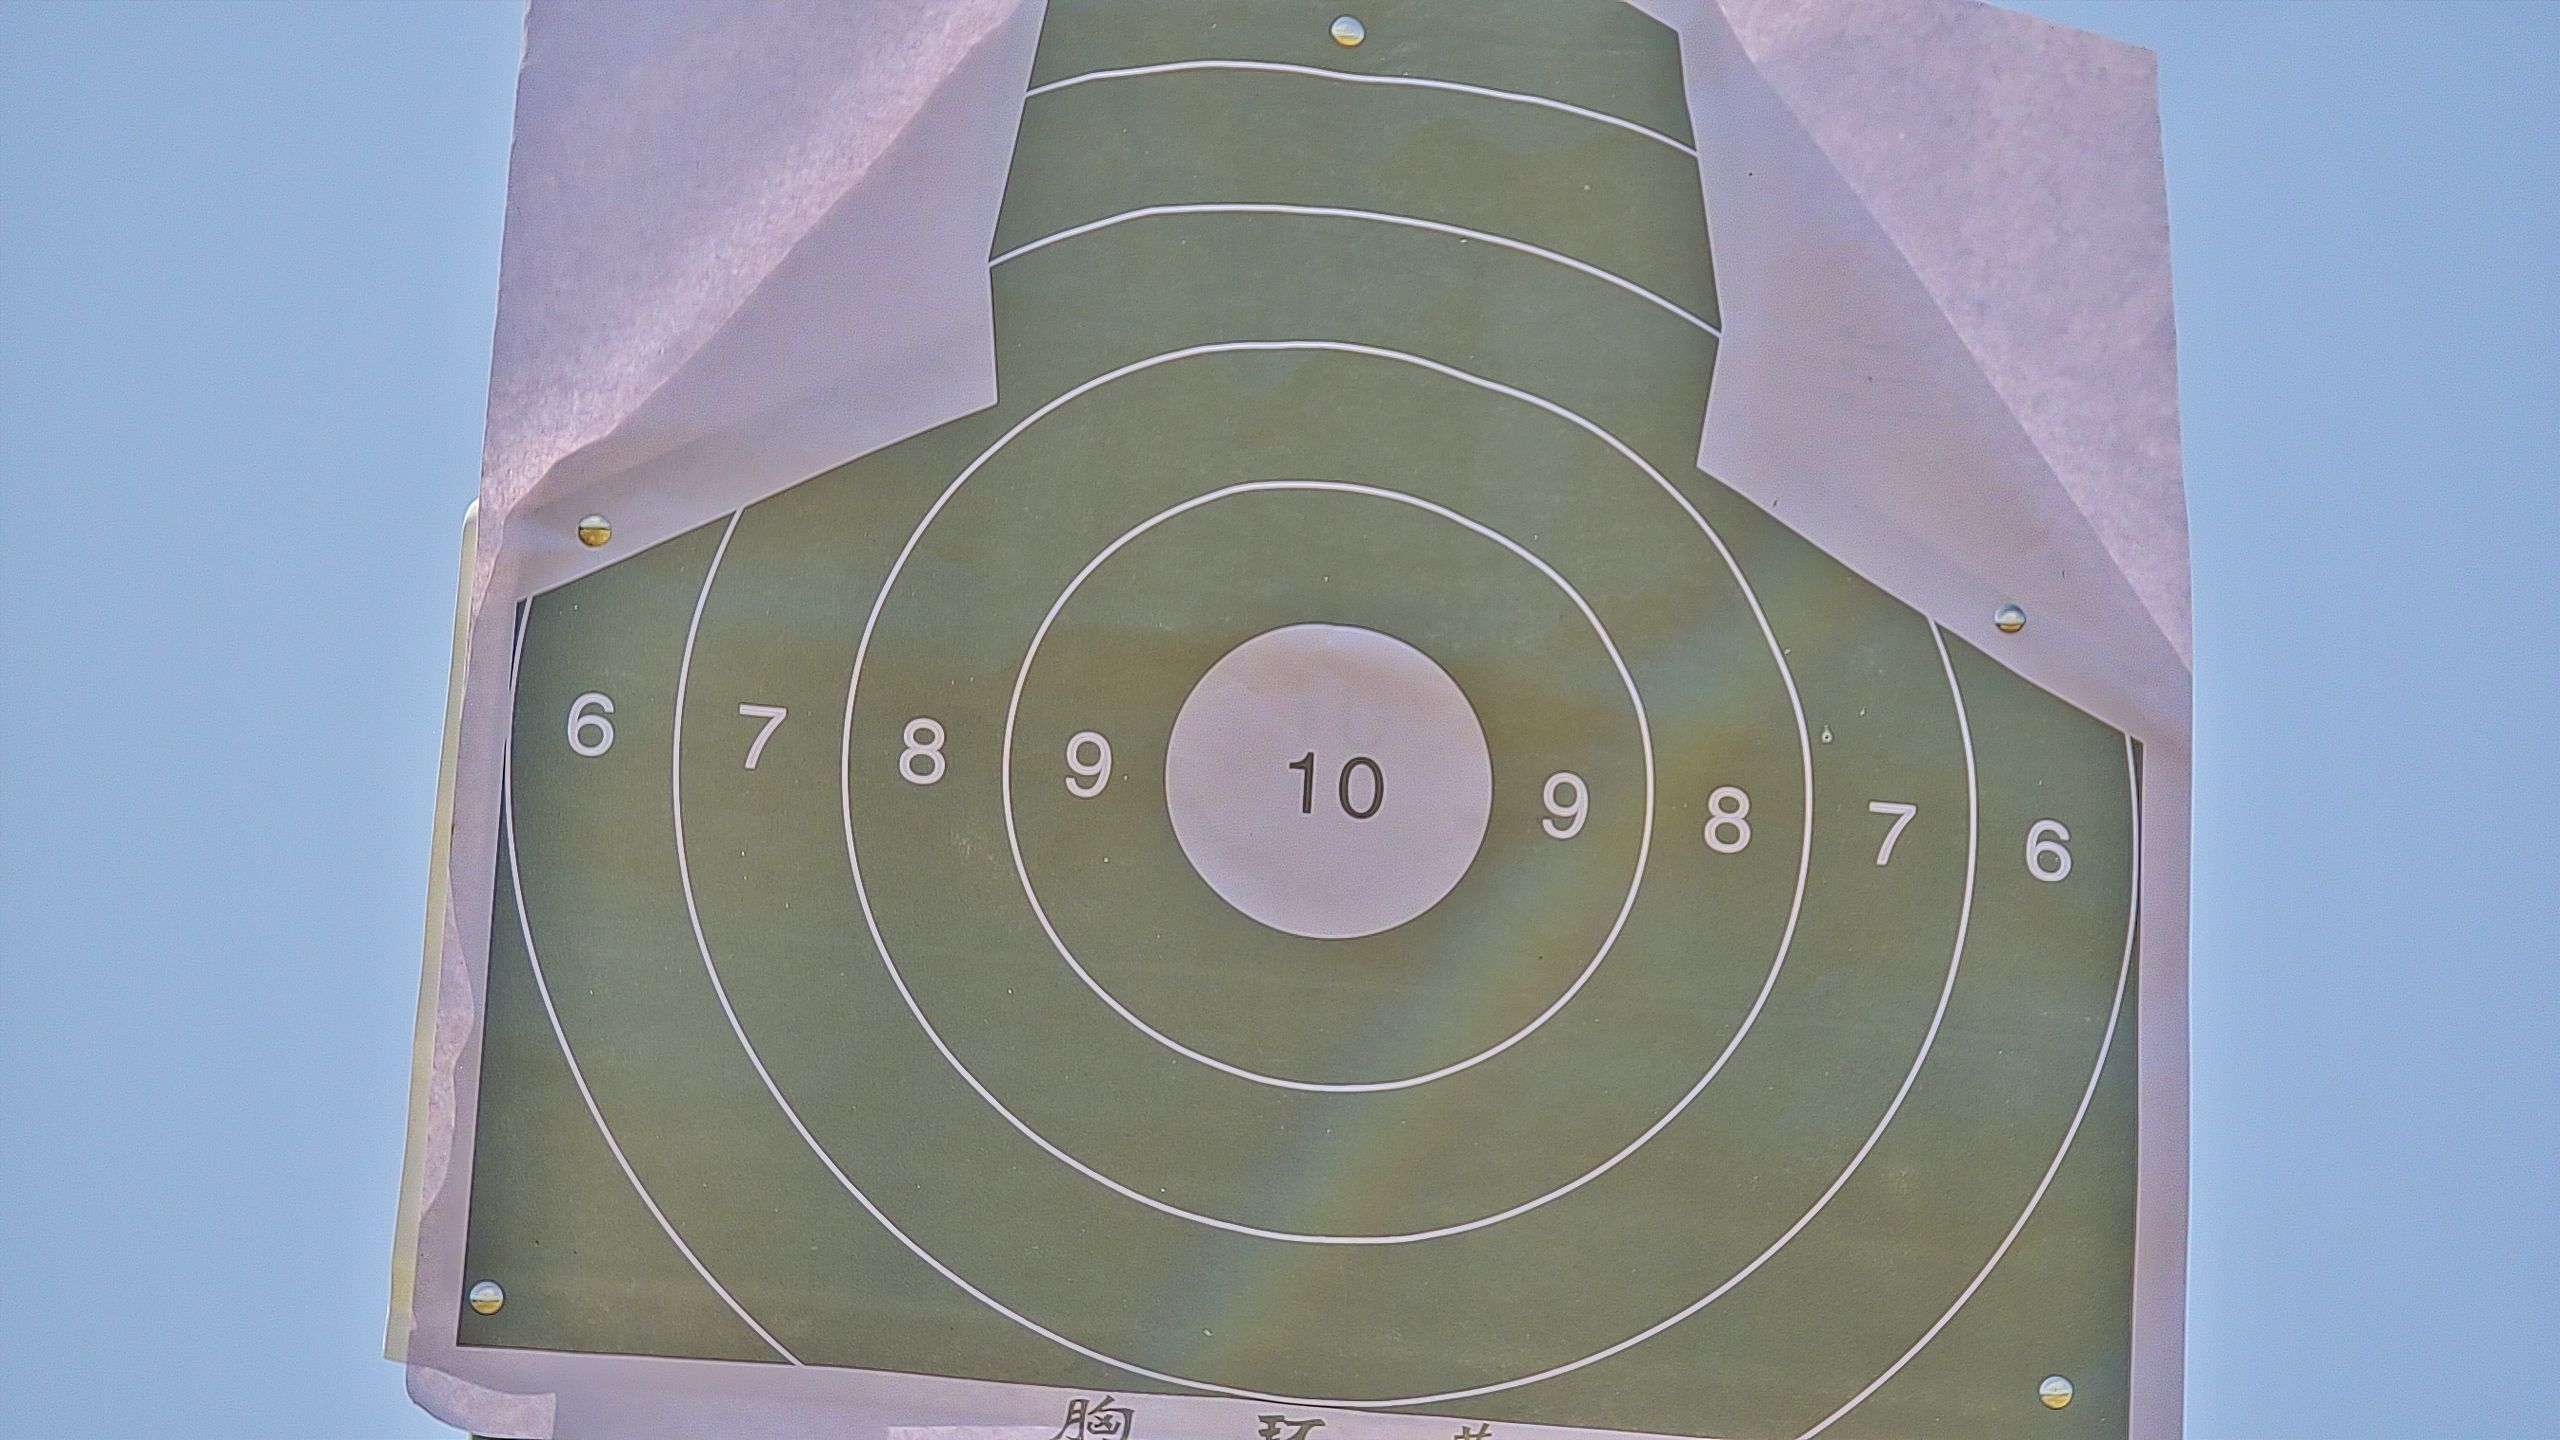kernel: (1326, 781, 1327, 784)
target: (455, 2, 2143, 1440)
ten: (1160, 622, 1495, 942)
